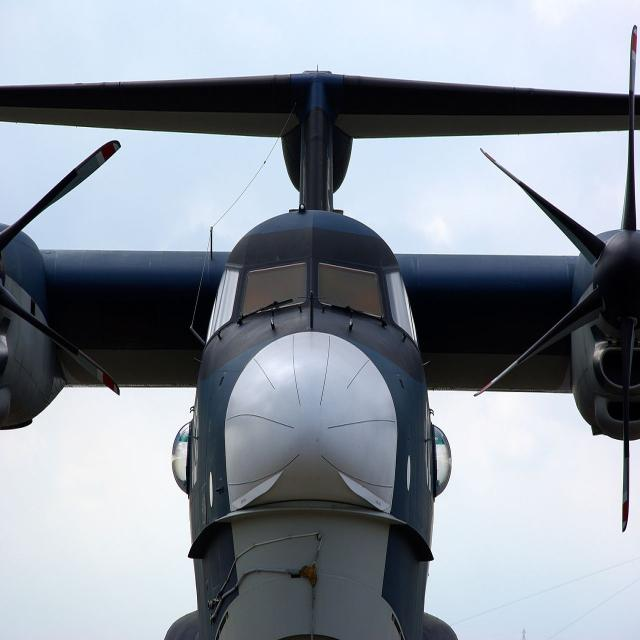MIL_Plane: (0, 23, 640, 640)
